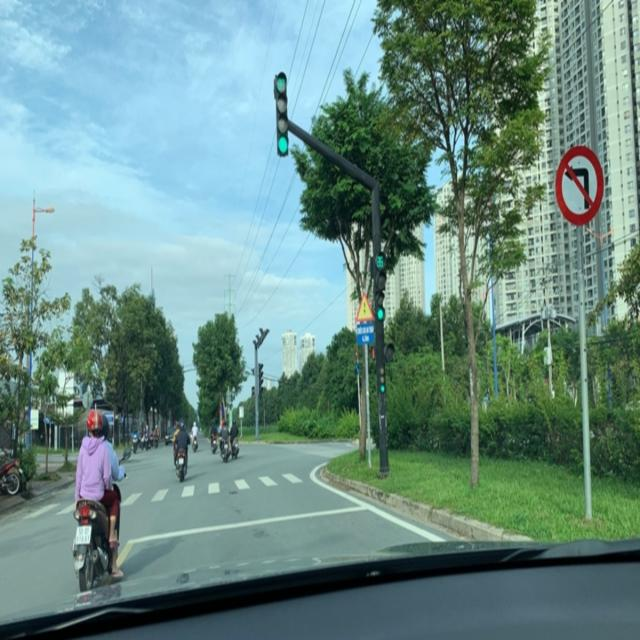Bien bao cam re trai: (549, 136, 615, 233)
